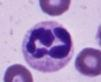N: (20, 18, 74, 76)
